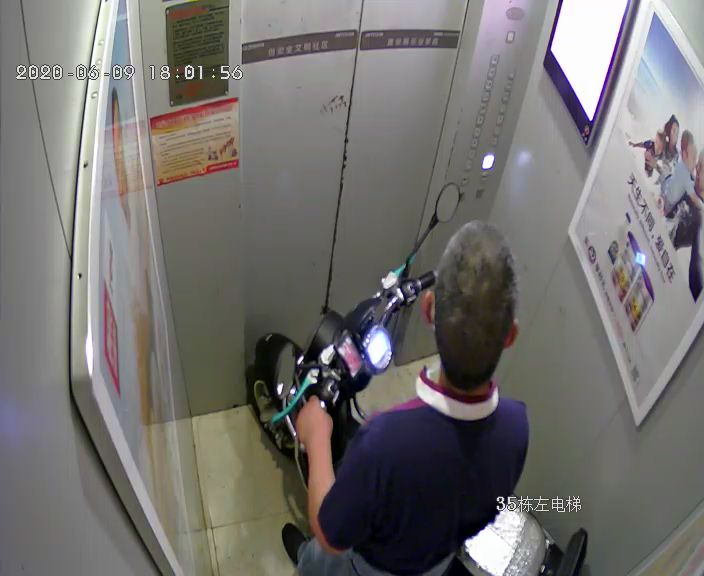Electric-bicycle: (254, 253, 554, 576)
